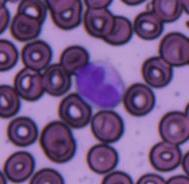M: (75, 60, 125, 109)
